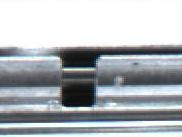oneu: (49, 50, 107, 113)
